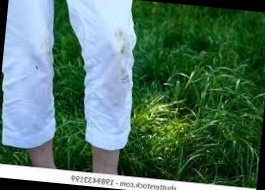earth: (112, 60, 129, 104), (117, 31, 130, 54)
